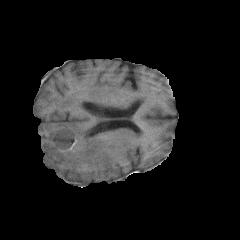glioma: (38, 96, 142, 179)
